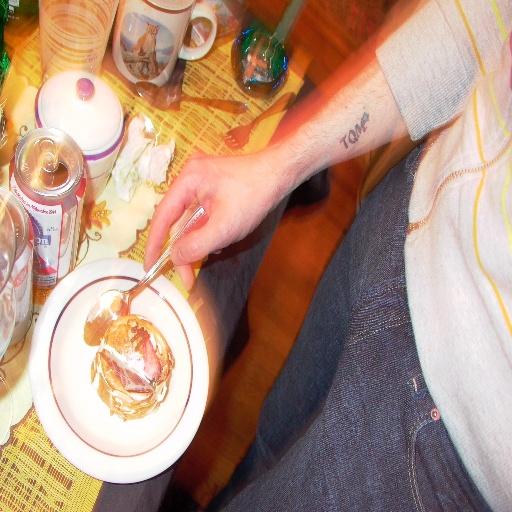hand: (141, 139, 276, 269)
